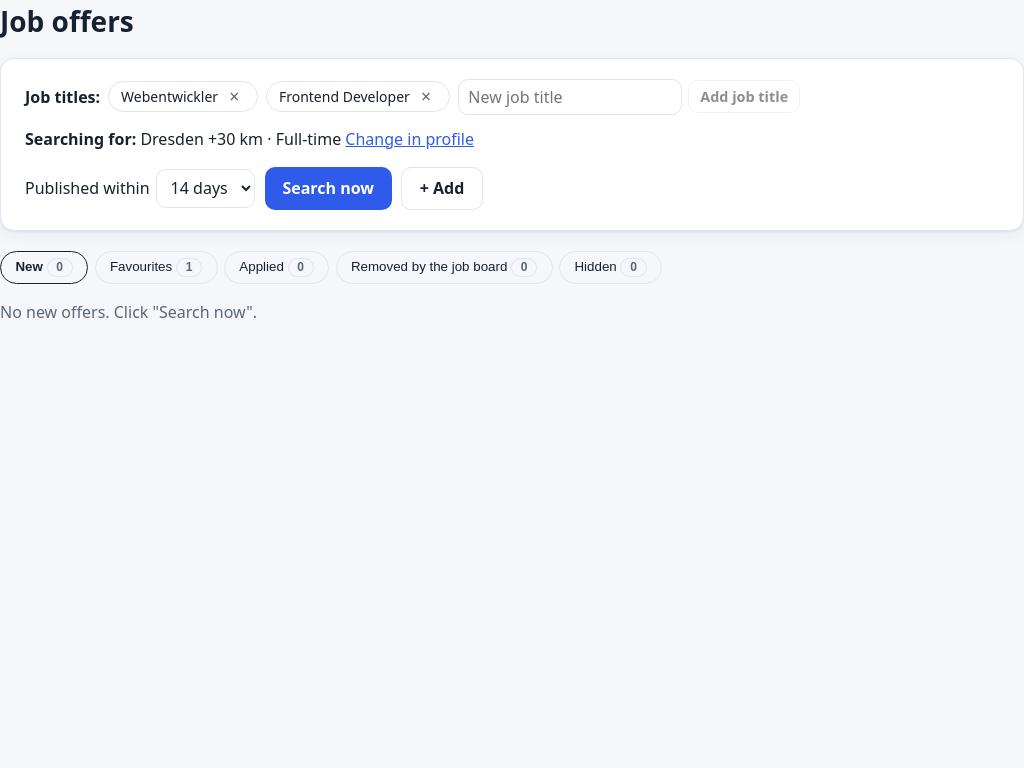
Create package › all packages of a favourite were sent: "Open package" opens the newest, and a new package can be created
What coordinates should you click on to do the following:
click the tab "Favourites 1"
I would click on:
 (156, 267)
Its box is [95,251,218,284].
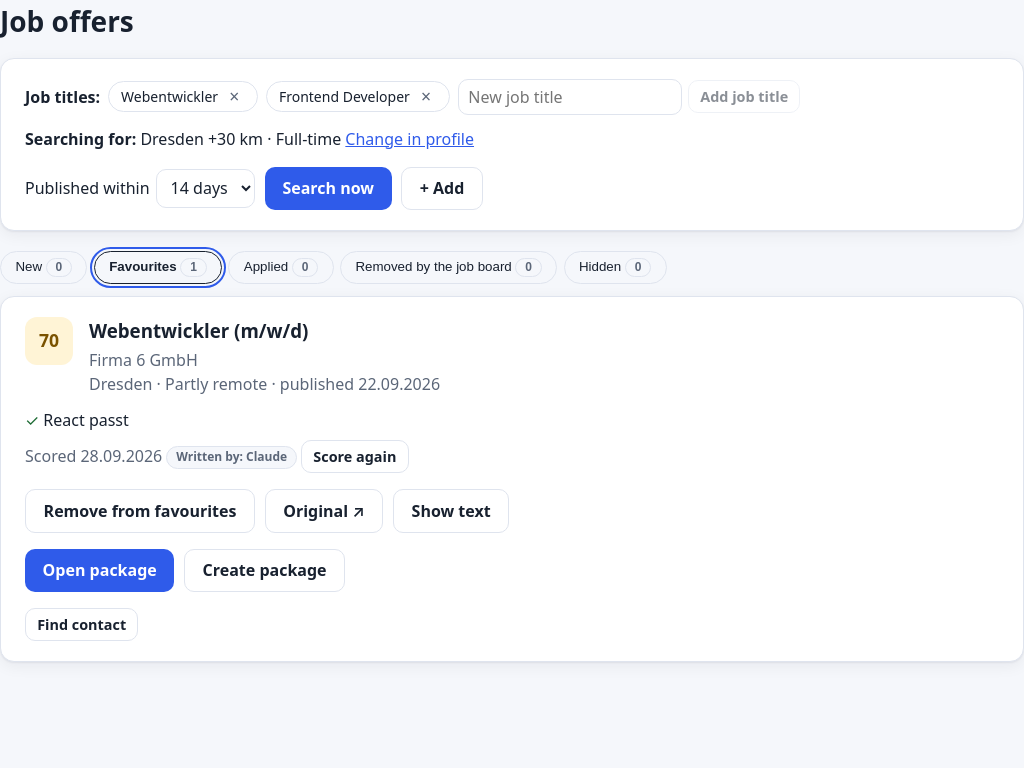
What coordinates should you click on to do the following:
click the button "Create package"
I would click on:
 (265, 570)
Its box is [184,549,345,592].
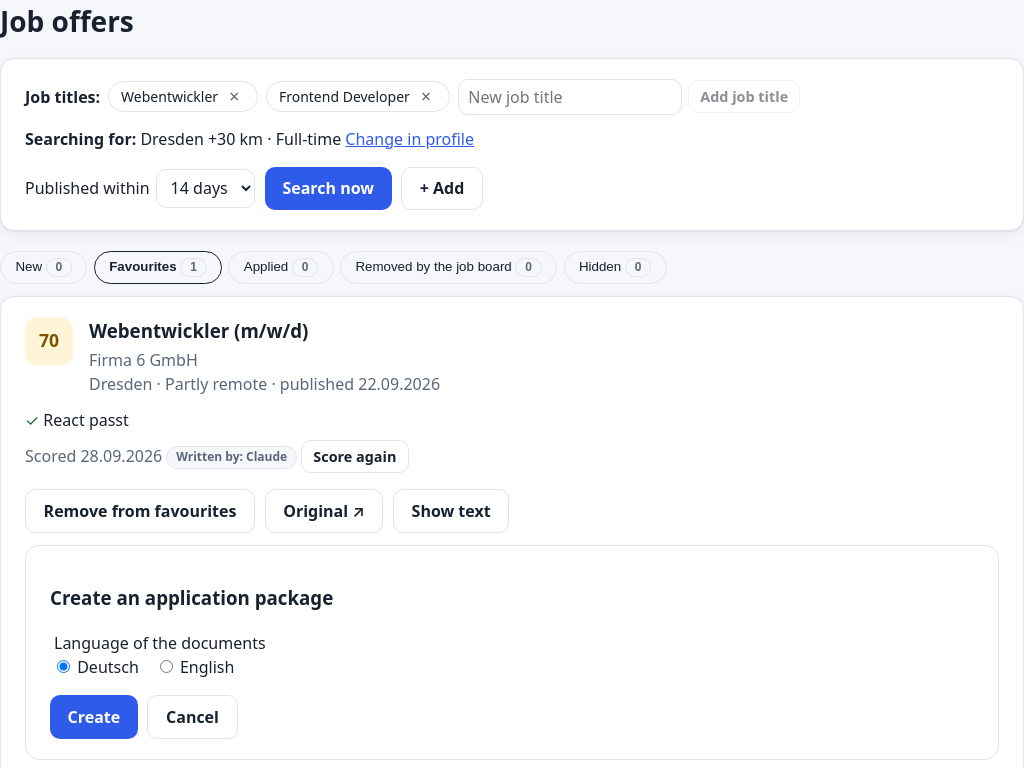
Now the button "Create" is enabled, box [50,695,138,739]
